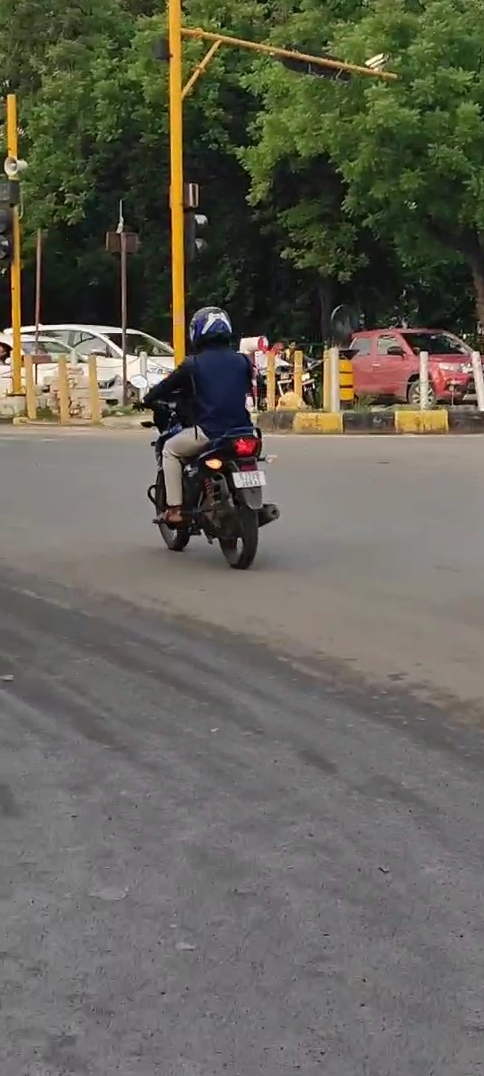BikeWithRider: (131, 295, 289, 575)
Helmet: (183, 301, 239, 354)
